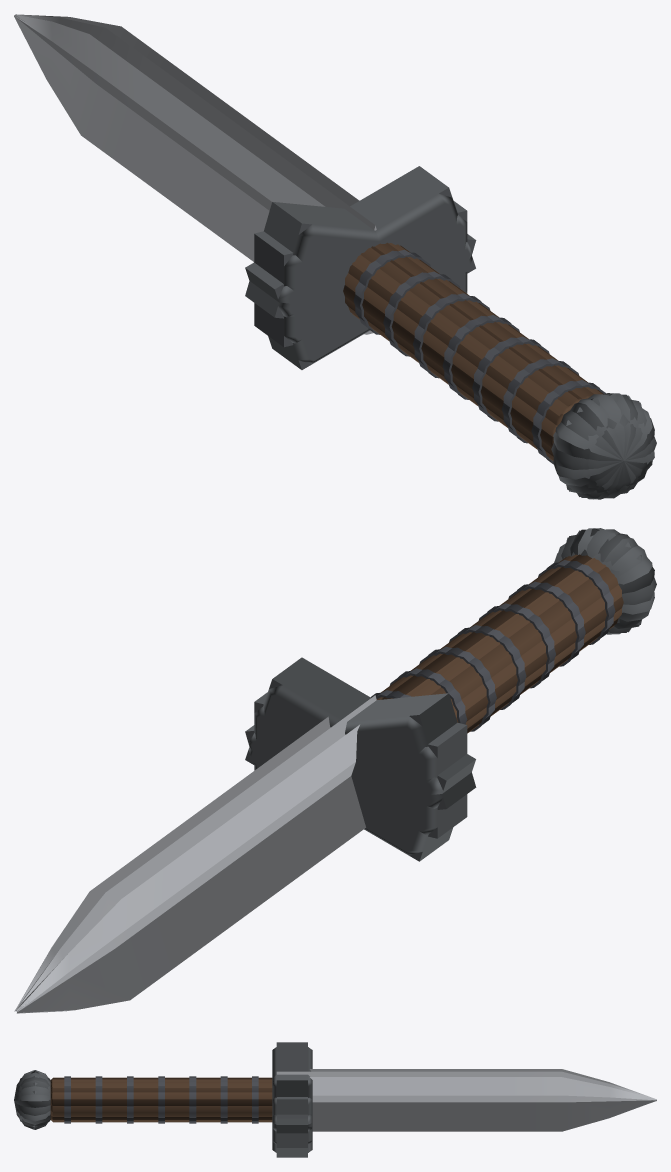
The model's file is tknife.glb.
3 views of the same model, one above another, from view 1: azimuth 30°, elevation 25°; view 2: azimuth 150°, elevation 25°; view 3: azimuth 270°, elevation 25° (orthographic). The views are drawn at different scales.
Visible parts, largest first — view 1: L0, L1; view 2: L0, L1; view 3: L0, L1.
Boxes of the visible parts, bbox=[...] form: L0: bbox=[14, 14, 656, 499]; L1: bbox=[245, 166, 653, 496]; L0: bbox=[14, 528, 656, 1013]; L1: bbox=[245, 528, 641, 861]; L0: bbox=[14, 1046, 656, 1152]; L1: bbox=[19, 1042, 307, 1157].
Size of the model in its own units: 0.055 by 0.0383 by 0.2874.
